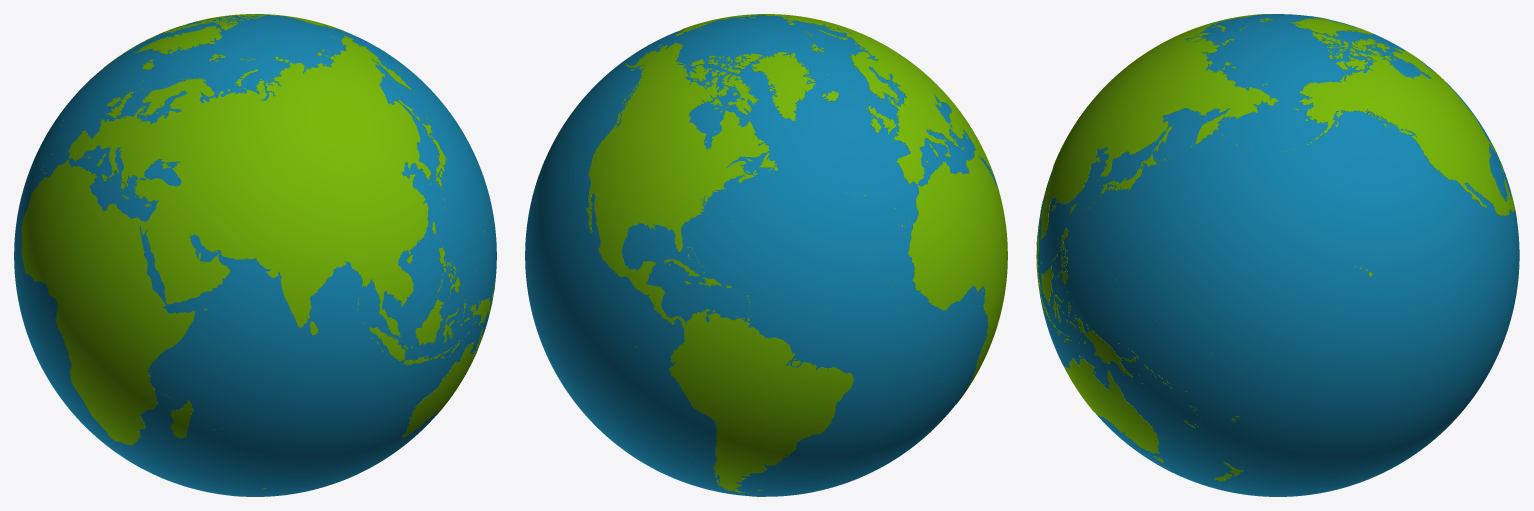
File: planeta2.glb
The picture shows the model from 3 angles, left to right: view 1: azimuth 30°, elevation 25°; view 2: azimuth 150°, elevation 25°; view 3: azimuth 270°, elevation 25°; orthographic projection.
Visible parts, largest first — view 1: Object_2, Object_20, Object_16, Object_12, Object_17, Object_13; view 2: Object_2, Object_19, Object_20, Object_17, Object_15; view 3: Object_2, Object_20, Object_19, Object_16, Object_14, Object_17, Object_13.
Part boxes in pixels (bbox=[...]): Object_2: bbox=[14, 14, 496, 496]; Object_20: bbox=[21, 35, 431, 445]; Object_16: bbox=[401, 327, 483, 437]; Object_12: bbox=[170, 14, 458, 438]; Object_17: bbox=[134, 26, 221, 54]; Object_13: bbox=[106, 91, 446, 344]; Object_2: bbox=[525, 15, 997, 496]; Object_19: bbox=[586, 42, 853, 490]; Object_20: bbox=[674, 14, 1007, 404]; Object_17: bbox=[751, 52, 815, 121]; Object_15: bbox=[721, 74, 758, 115]; Object_2: bbox=[1037, 14, 1519, 496]; Object_20: bbox=[1037, 14, 1278, 265]; Object_19: bbox=[1299, 48, 1516, 218]; Object_16: bbox=[1064, 357, 1159, 453]; Object_14: bbox=[1076, 32, 1341, 377]; Object_17: bbox=[1290, 18, 1373, 36]; Object_13: bbox=[1041, 167, 1142, 304].
Size of the model in its own units: 2 by 2 by 2.
